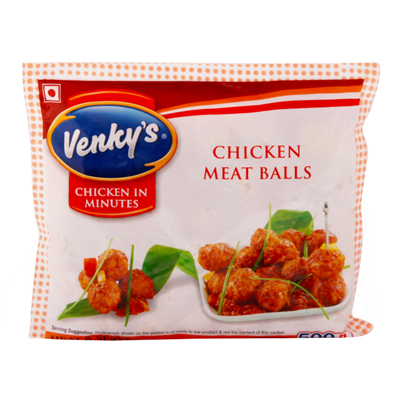nonveg_red: (41, 82, 63, 105)
